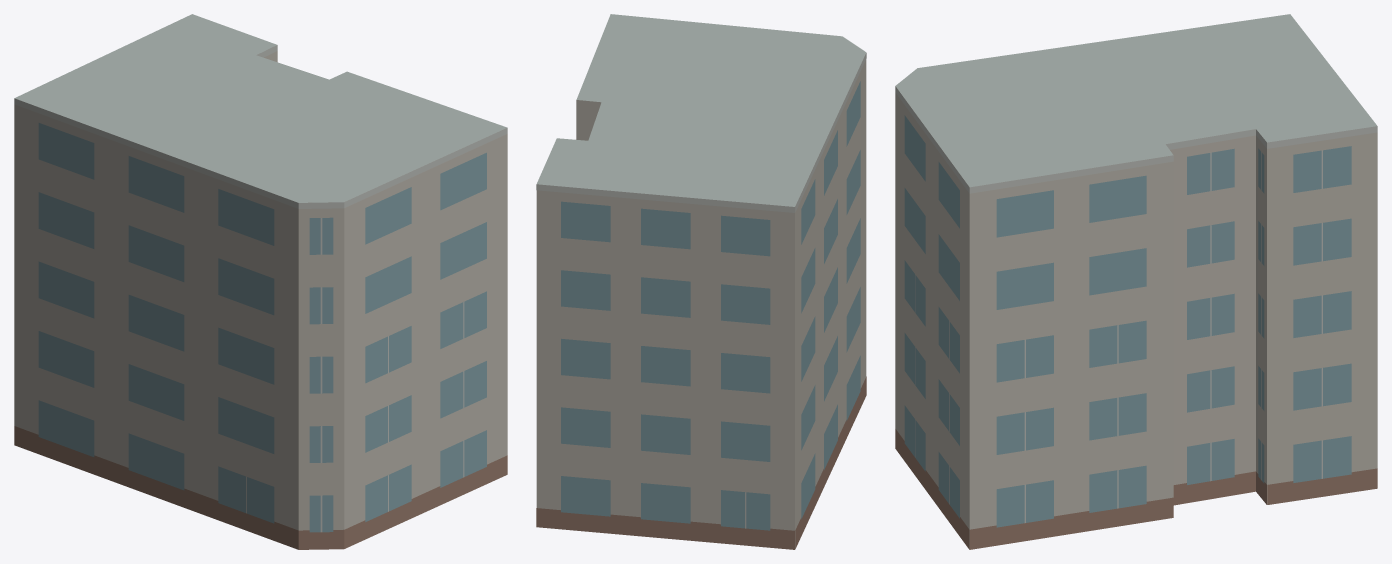
Rendered from survey-upis-32993309.glb.
The picture shows the model from 3 angles, left to right: view 1: azimuth 30°, elevation 25°; view 2: azimuth 150°, elevation 25°; view 3: azimuth 270°, elevation 25°; orthographic projection. The views are drawn at different scales.
Visible parts, largest first — view 1: survey-upis-32993309.tmp; view 2: survey-upis-32993309.tmp; view 3: survey-upis-32993309.tmp.
Boxes of the visible parts, x1=… form: survey-upis-32993309.tmp: x1=14, y1=14, x2=507, y2=549; survey-upis-32993309.tmp: x1=536, y1=14, x2=866, y2=549; survey-upis-32993309.tmp: x1=895, y1=14, x2=1377, y2=549.
Bounding box in the file's own units: 14.27 × 13.9 × 16.77.
